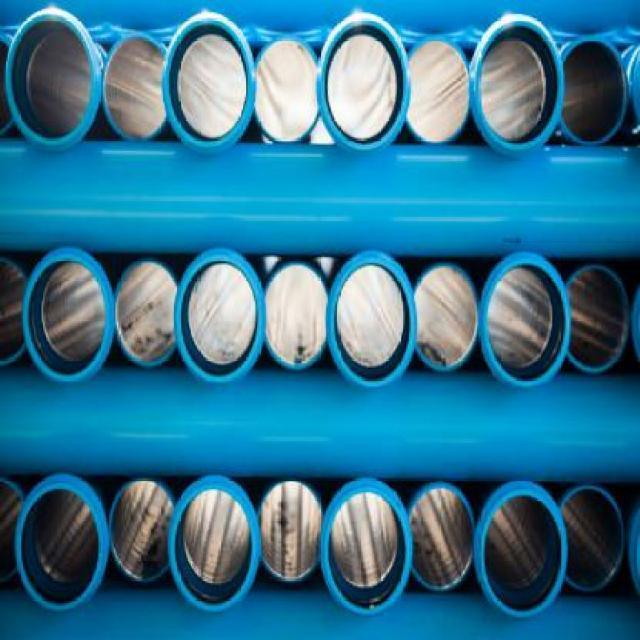pipe: (316, 16, 412, 152), (163, 15, 256, 154), (5, 9, 96, 145), (322, 483, 413, 616), (328, 257, 419, 388), (174, 252, 265, 381), (482, 256, 570, 389), (170, 482, 258, 613), (479, 488, 567, 619), (475, 18, 561, 152), (15, 482, 104, 611), (23, 250, 109, 383), (562, 38, 630, 146), (409, 484, 477, 590), (255, 34, 321, 143), (102, 34, 168, 143), (413, 265, 479, 373), (109, 480, 178, 583), (263, 261, 328, 370), (563, 265, 628, 373), (404, 38, 472, 141), (559, 488, 624, 593), (115, 261, 176, 367), (258, 482, 323, 580)
